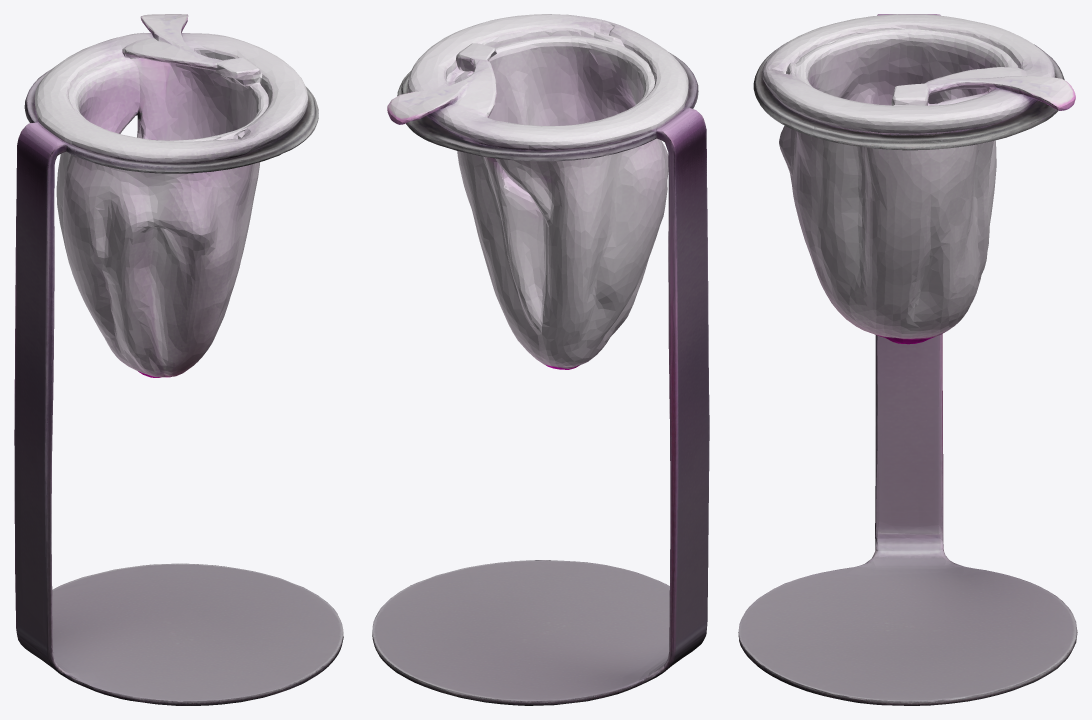
File: coador.glb
3 views of the same model, side by side, from view 1: azimuth 30°, elevation 25°; view 2: azimuth 150°, elevation 25°; view 3: azimuth 270°, elevation 25° (orthographic). The views are drawn at different scales.
Visible parts, largest first — view 1: world; view 2: world; view 3: world.
Boxes of the visible parts, box(x1,y1,x2,y2) form: world: box(14, 14, 343, 705); world: box(372, 14, 709, 705); world: box(738, 14, 1077, 705).
Size of the model in its own units: 0.5485 by 0.9989 by 0.5341.
1 material, 1 textured.
